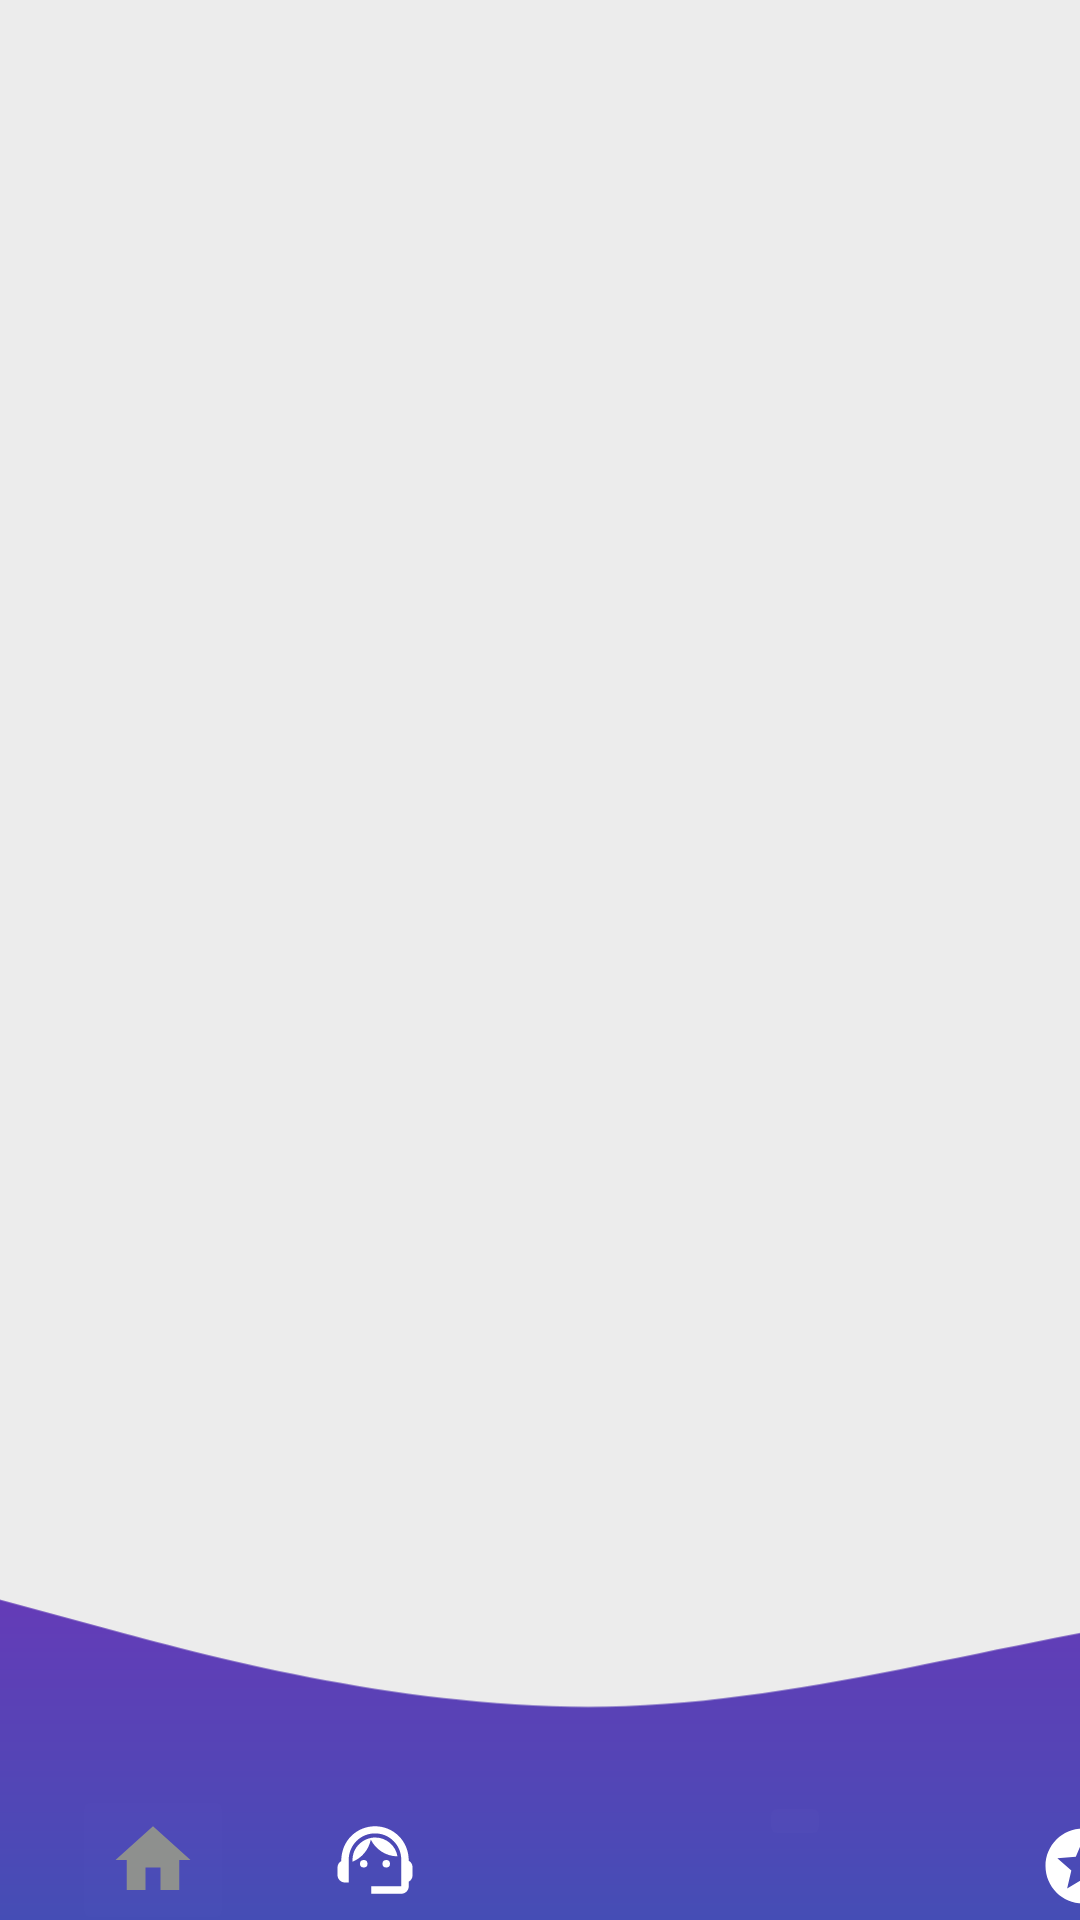

Icon bounding boxes for this 1080 × 1920 phone screenshot, format (x1, y1, x2, y2):
home: (116, 1826, 190, 1890)
support agent notsel: (337, 1826, 413, 1894)
